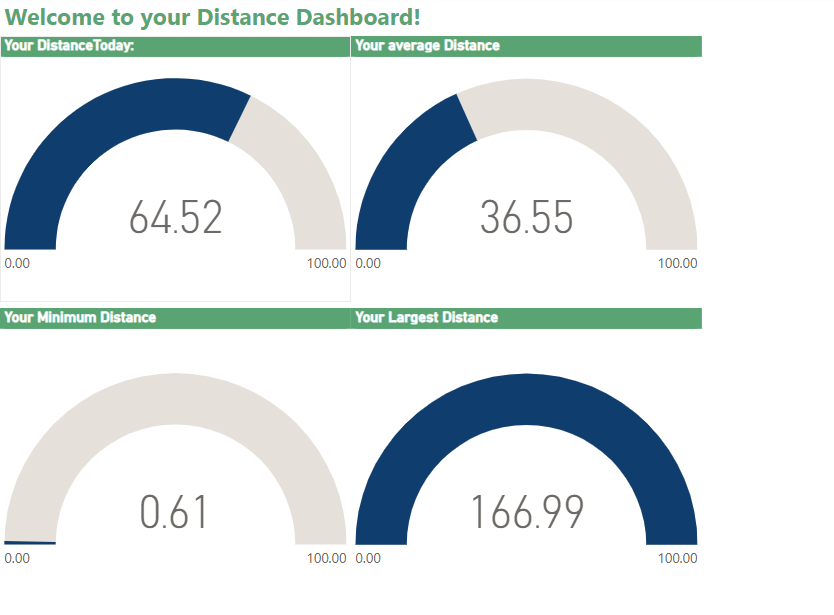

The page's visual inventory and layout, read from the dashboard file:
{"tool":"powerbi","page":{"name":"Distance","canvas":[1280,720],"ordinal":1},"visuals":[{"type":"gauge","title":"Your Distance Today:","fields":{"Y":["Sum(Sheet1.Distance)"]},"box":[0,46.7,405.6,313.3],"z":0},{"type":"gauge","title":"Your Minimum Distance:","fields":{"Y":["Min(Sheet1.Distance)"]},"box":[0,360,405.6,358.9],"z":1000},{"type":"gauge","title":"Your average Distance:","fields":{"Y":["Avg(Sheet1.Distance)"]},"box":[405.6,46.7,404.4,313.3],"z":2000},{"type":"gauge","title":"Your Longest Distance:","fields":{"Y":["Max(Sheet1.Distance)"]},"box":[405.6,360,404.4,360],"z":3000},{"type":"textbox","box":[0,0,810.2,46.2],"z":4000}]}

Visuals, with their boxes on the page's 1280x720 design canvas (x1, y1, x2, y2). These are canvas units, not pixel positions in the 834x615 screenshot, which may show the page scaled, cropped or inside an application window:
"Your Distance Today:" gauge: x1=0 y1=47 x2=406 y2=360
"Your Minimum Distance:" gauge: x1=0 y1=360 x2=406 y2=719
"Your average Distance:" gauge: x1=406 y1=47 x2=810 y2=360
"Your Longest Distance:" gauge: x1=406 y1=360 x2=810 y2=720
textbox: x1=0 y1=0 x2=810 y2=46
